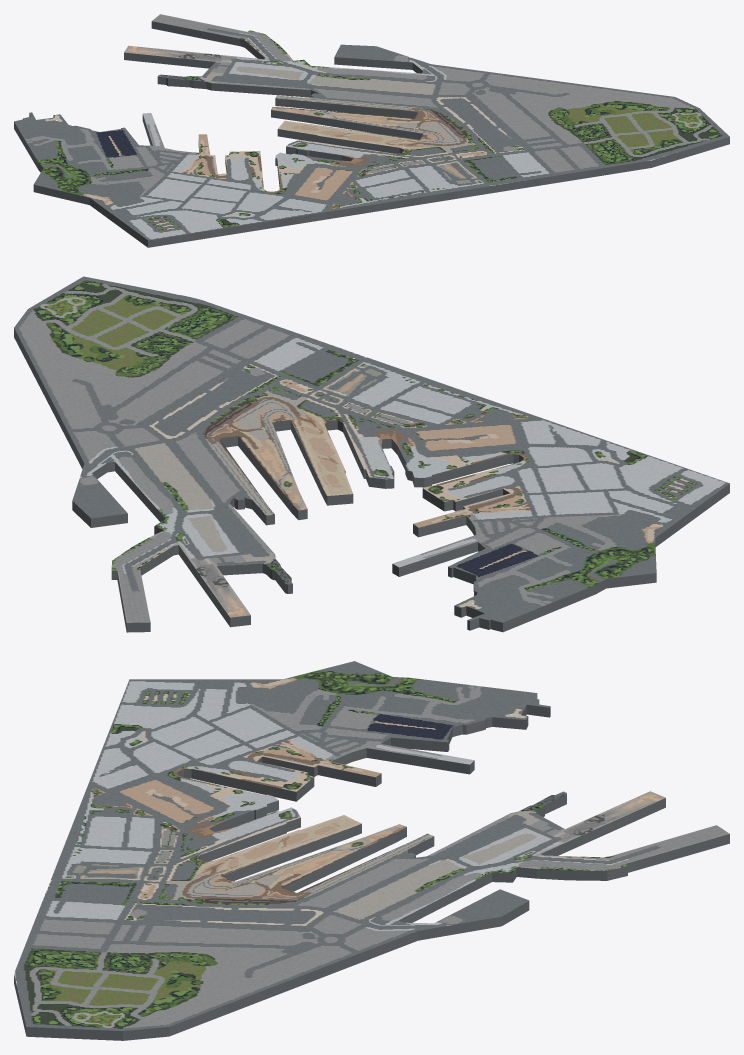
Rendered from ground.obj.
The picture shows the model from 3 angles, top to bottom: view 1: azimuth 30°, elevation 25°; view 2: azimuth 150°, elevation 25°; view 3: azimuth 270°, elevation 25°; orthographic projection. The views are drawn at different scales.
Size of the model in its own units: 5275 by 65 by 4313.
1 material, 1 textured.
